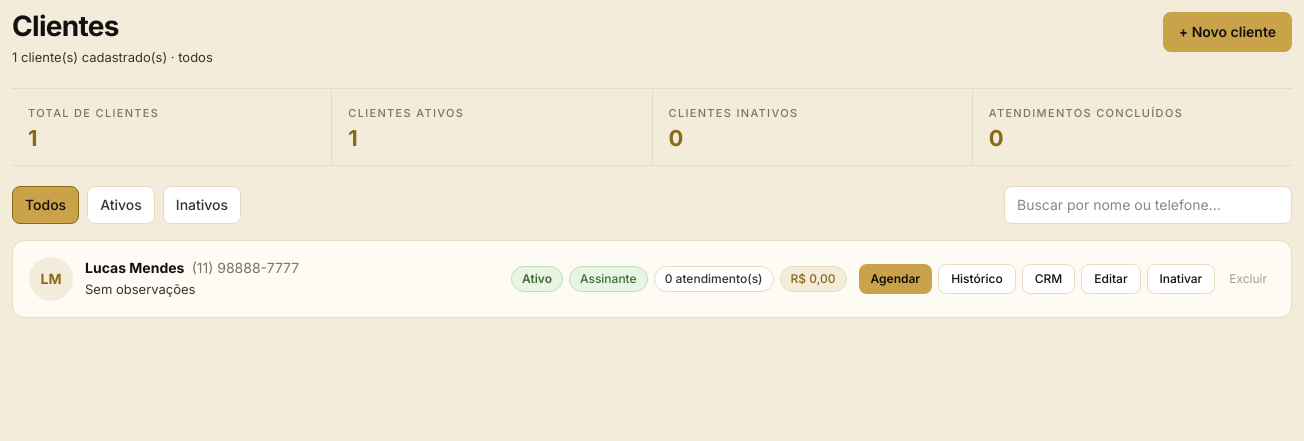
it: Exclusão bloqueada por uso (auditoria F2/F3) › Clientes: bloqueia exclusão com assinatura ativa do Clube e pedido na fila
What coordinates should you click on to do the following:
click the button with aria-label "Excluir Lucas Mendes"
I would click on:
 (1248, 279)
Its box is [1221,264,1275,294].
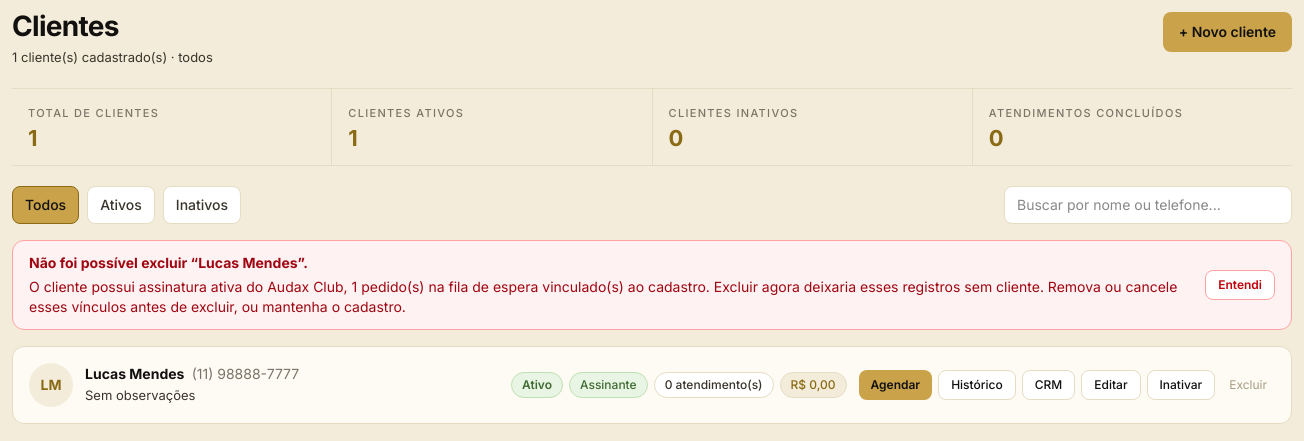
Check: the message shows "Não foi possível excluir “Lucas Mendes”.", box [12,240,1292,330]
Check: the message shows "assinatura ativa do Audax Club", box [139,278,538,295]
Check: the message shows "1 pedido(s) na fila de espera", box [139,278,538,295]
